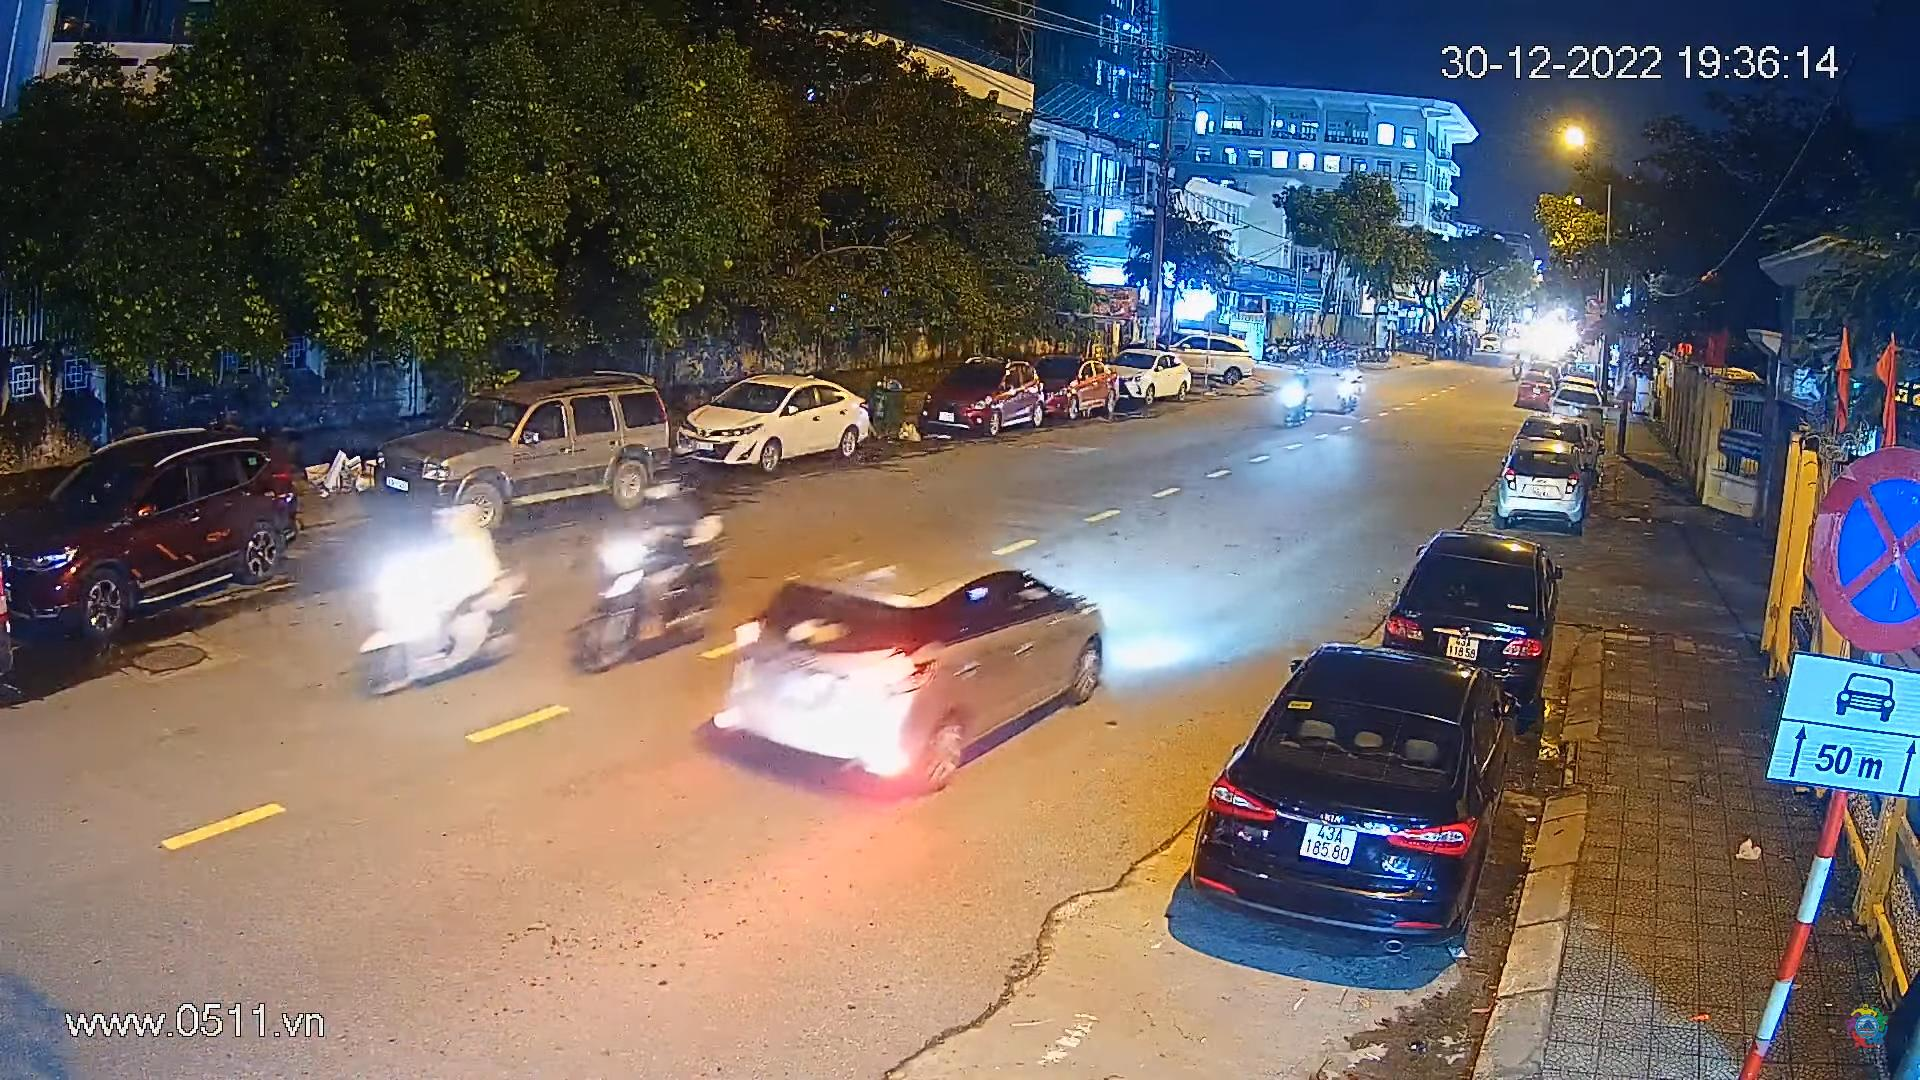car: (1183, 634, 1516, 951), (711, 551, 1121, 799), (0, 426, 297, 649), (373, 365, 675, 527), (1379, 529, 1561, 686), (679, 365, 868, 477), (911, 349, 1046, 440), (1505, 429, 1586, 530), (1030, 352, 1114, 423), (1113, 344, 1195, 407), (1170, 336, 1257, 392), (1548, 380, 1604, 442), (1513, 373, 1559, 413)
motorcycle: (352, 483, 539, 702), (579, 476, 731, 680), (1273, 352, 1320, 436), (1331, 344, 1369, 421)
